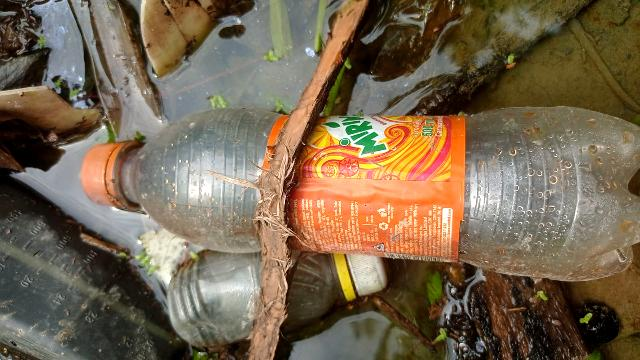bottle: (127, 101, 638, 263), (180, 231, 385, 347)
